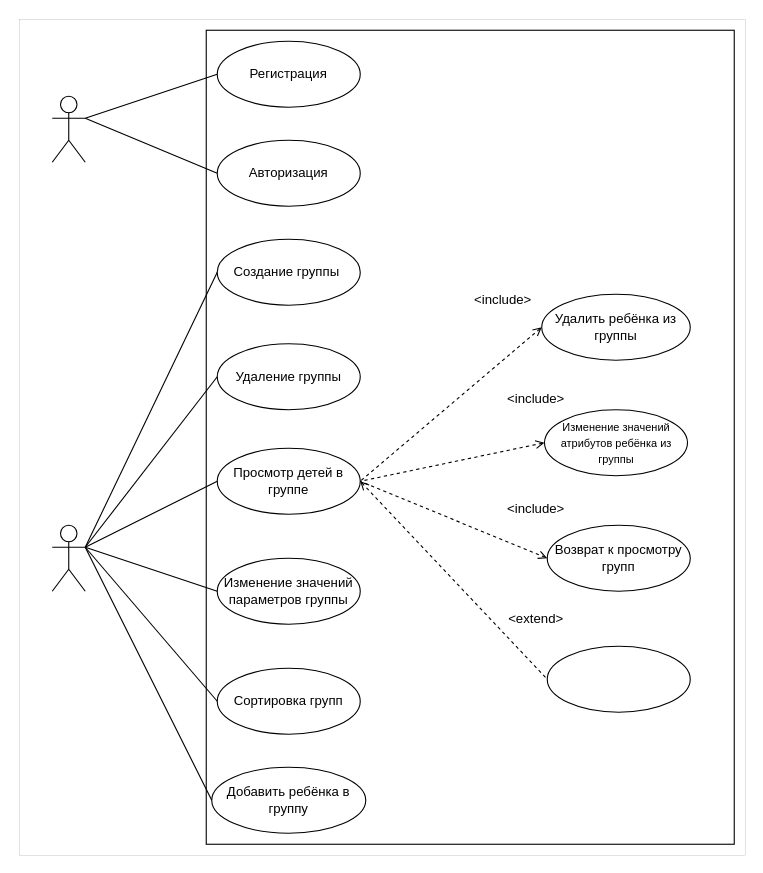
This 763x873 diagram has some shape labels left out. Here are the shapes that lost their labels. From the top down, the centre of each, then its label:
(x=68, y=128): Гость
(x=68, y=557): Пользователь
(x=618, y=678): Сортировка детей в группе
